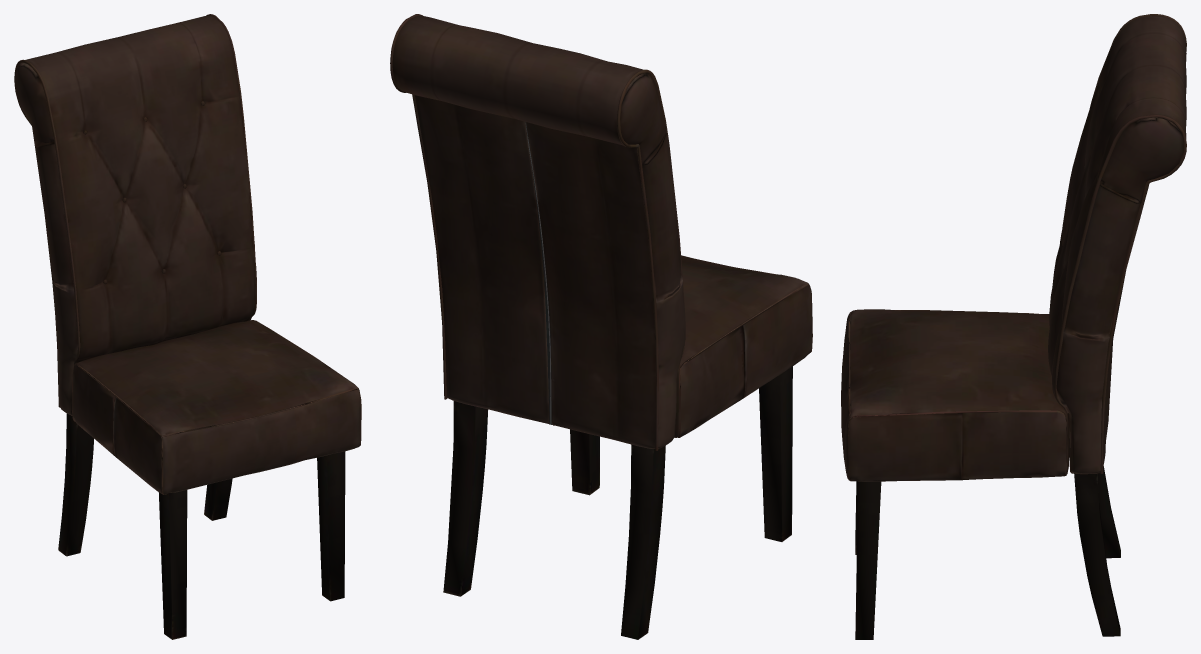
Rendered from dining_chair_02.glb.
3 views of the same model, side by side, from view 1: azimuth 30°, elevation 25°; view 2: azimuth 150°, elevation 25°; view 3: azimuth 270°, elevation 25° (orthographic). The views are drawn at different scales.
Visible parts, largest first — view 1: dining_chair_02; view 2: dining_chair_02; view 3: dining_chair_02.
Boxes of the visible parts, left/top/right/bottom form: dining_chair_02: left=14, top=14, right=361, bottom=639; dining_chair_02: left=390, top=14, right=812, bottom=639; dining_chair_02: left=841, top=14, right=1186, bottom=639.
Size of the model in its own units: 0.4336 by 0.9728 by 0.5764.
1 material, 1 textured.
